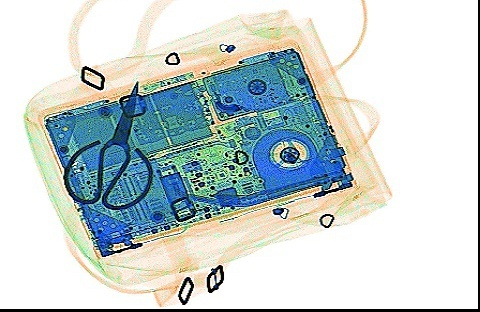scissors: (61, 78, 154, 211)
